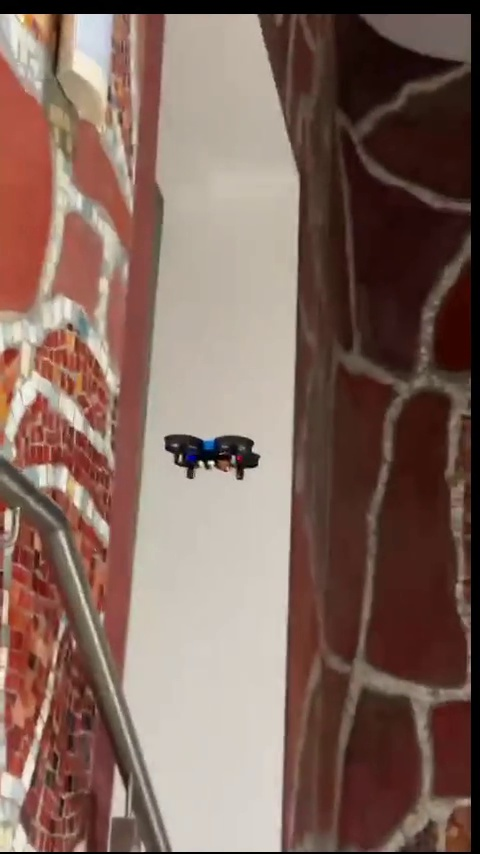drone: (159, 432, 266, 483)
